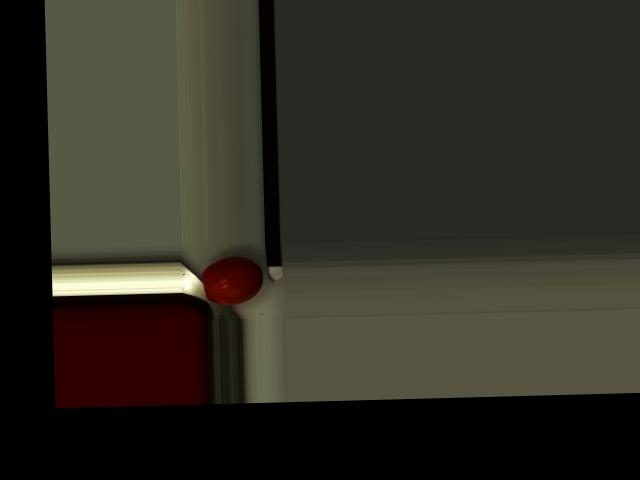tomato: (201, 255, 263, 305)
